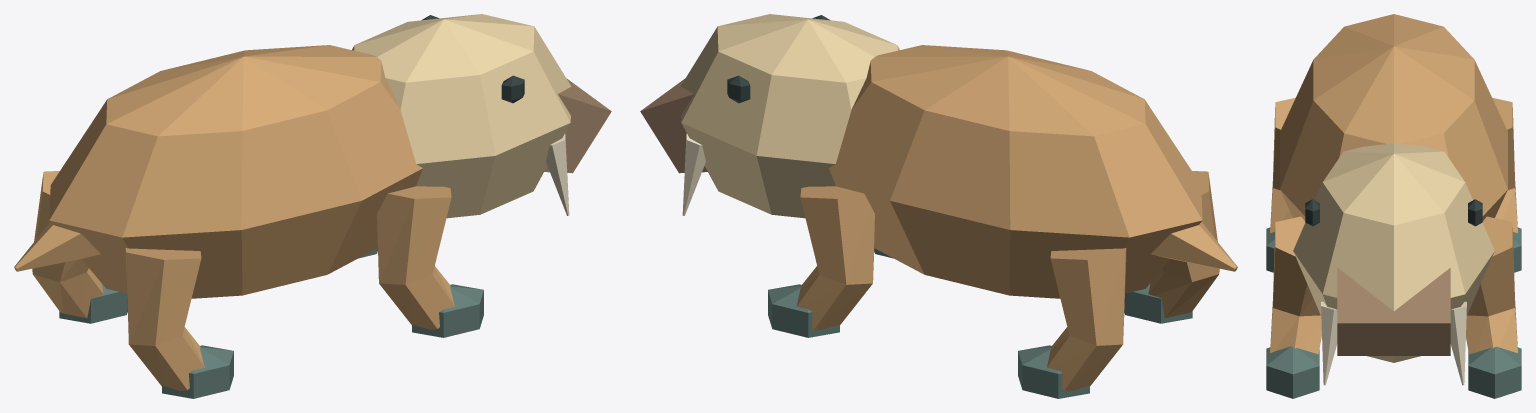
The model's file is lystrosaurus-india-891104.036edb8f0313.glb.
3 views of the same model, side by side, from view 1: azimuth 30°, elevation 25°; view 2: azimuth 150°, elevation 25°; view 3: azimuth 270°, elevation 25° (orthographic).
Parts seen in each view (by area): view 1: lystrosaurus-india-891104; view 2: lystrosaurus-india-891104; view 3: lystrosaurus-india-891104.
Boxes of the visible parts, x1,y1,x2,y2 form: lystrosaurus-india-891104: [14, 14, 611, 398]; lystrosaurus-india-891104: [640, 14, 1237, 398]; lystrosaurus-india-891104: [1266, 14, 1521, 398].
Size of the model in its own units: 1 by 0.4699 by 0.3961.
